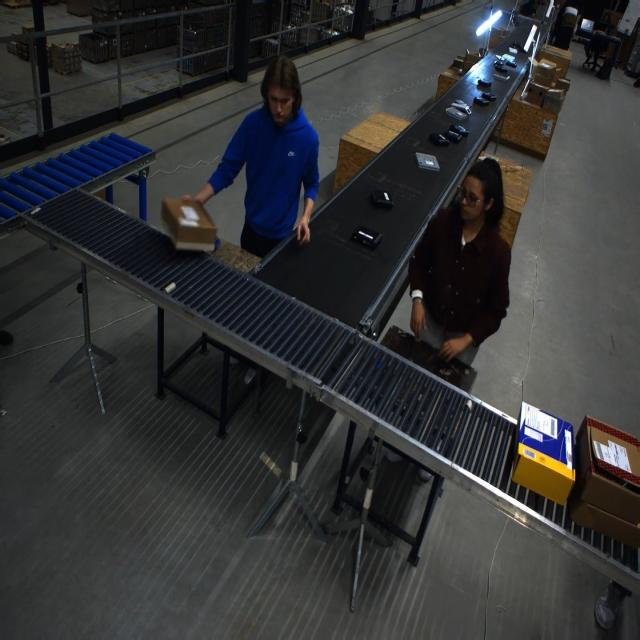box: (569, 417, 640, 550), (510, 405, 575, 506), (161, 198, 218, 252), (436, 68, 464, 101), (531, 59, 559, 87), (525, 81, 553, 107), (541, 88, 565, 113), (549, 76, 570, 98), (461, 49, 480, 73), (451, 57, 464, 72)
product: (349, 226, 382, 248), (369, 189, 394, 209), (444, 107, 475, 122), (415, 152, 439, 171), (449, 124, 469, 137), (429, 133, 449, 146), (445, 130, 461, 143), (480, 92, 496, 101), (493, 73, 510, 81), (473, 96, 488, 105), (477, 78, 492, 87), (494, 59, 506, 70), (504, 59, 517, 68), (507, 48, 517, 56), (494, 54, 505, 61)
